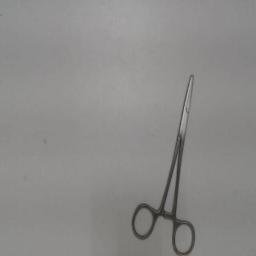Mayo Needle Holder: (128, 68, 200, 254)
